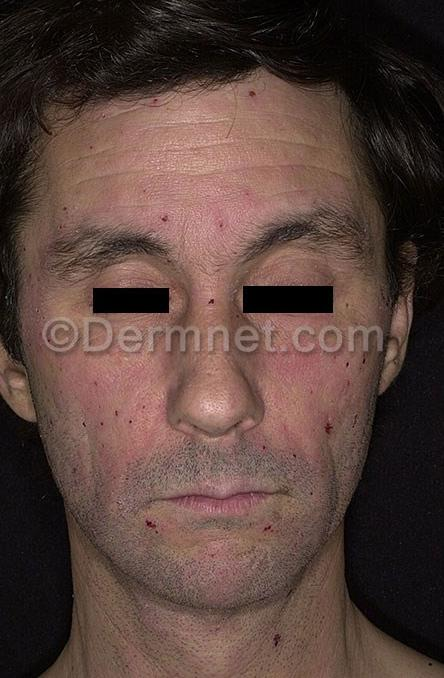exudacion 1: (60, 377, 148, 478), (304, 344, 379, 401), (26, 230, 44, 356), (161, 209, 234, 233), (54, 201, 75, 234), (322, 417, 343, 443), (139, 515, 165, 535), (261, 522, 278, 536), (246, 86, 261, 100), (292, 451, 300, 461), (261, 443, 270, 451)
